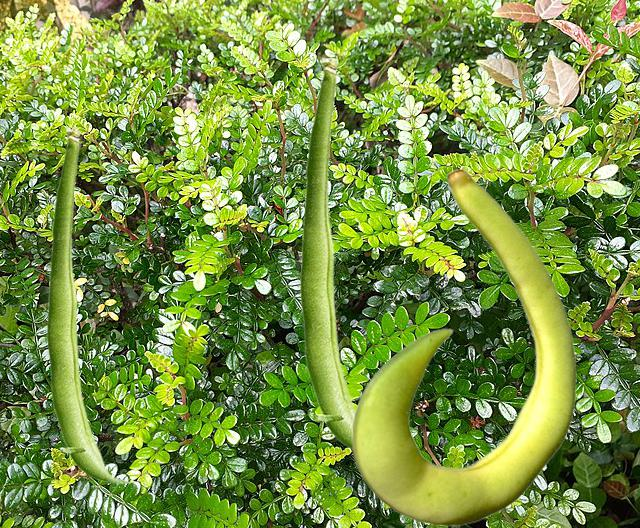french_bean: (351, 168, 576, 525), (46, 126, 131, 483), (299, 56, 354, 449)
